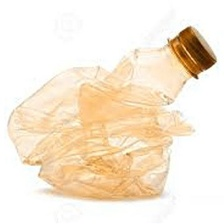bottle: (7, 25, 216, 206)
